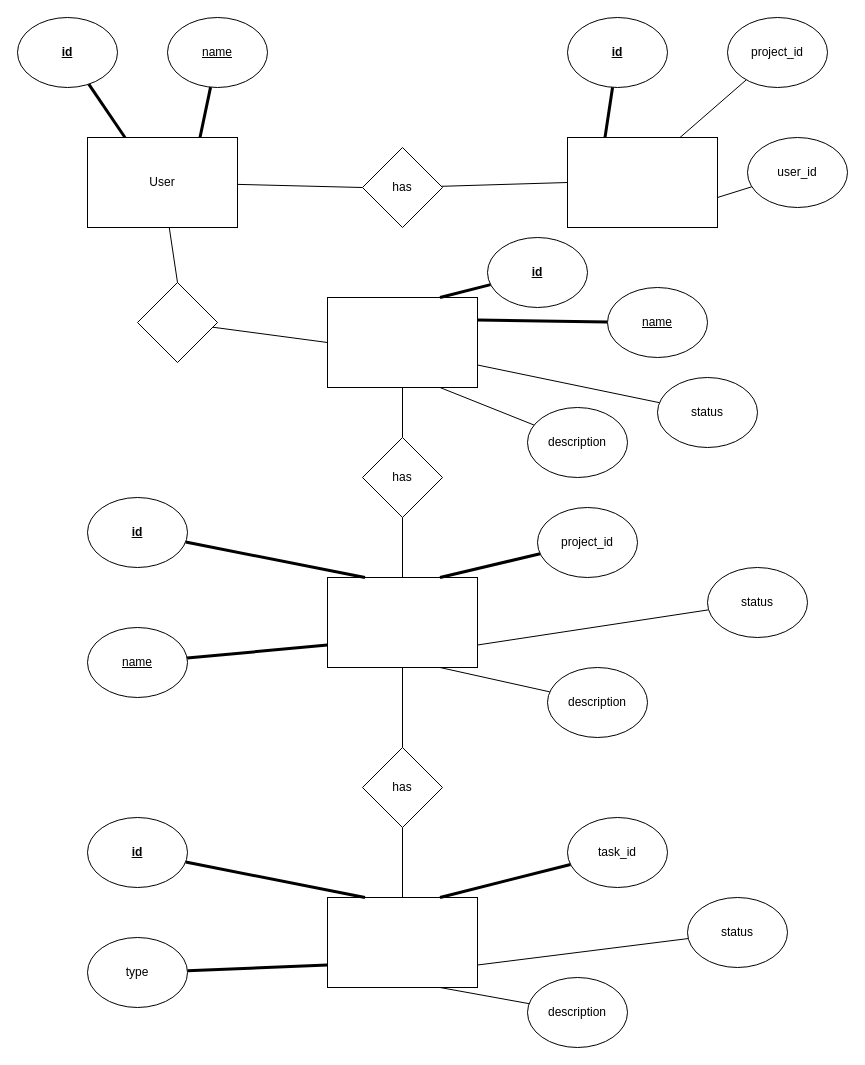
The diagram is 865 pixels wide and 1065 high, and some of its shapes have lost their labels. The centre of each missing label's shape, as x and y in pixels:
access: the point at 177,322
Bug: the point at 402,942
Permission: the point at 642,182
Project: the point at 402,342
Task: the point at 402,622
